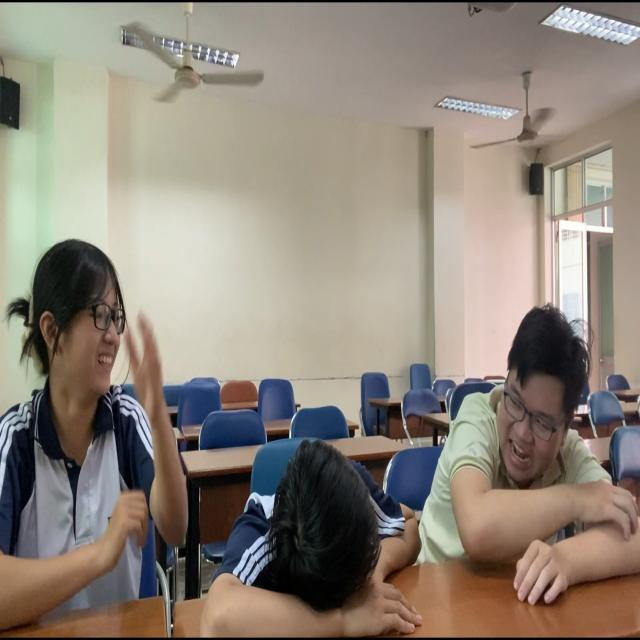raise_hand: (1, 214, 183, 640)
sleep: (204, 438, 427, 640)
